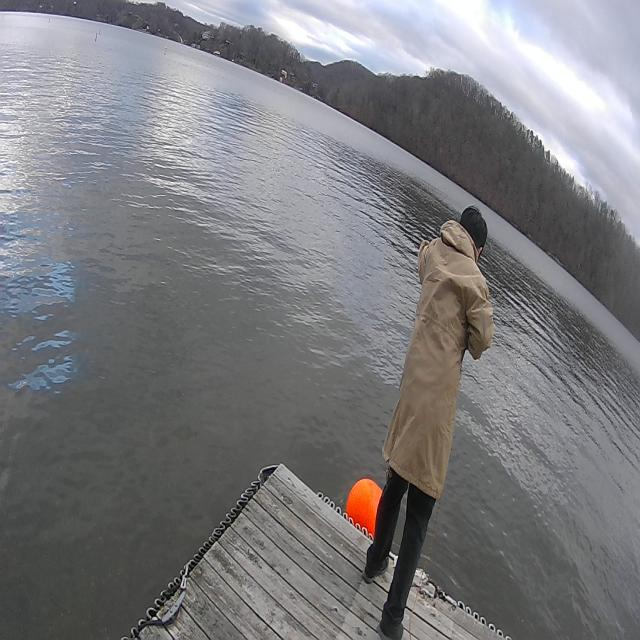Buoy: (345, 464, 386, 546)
